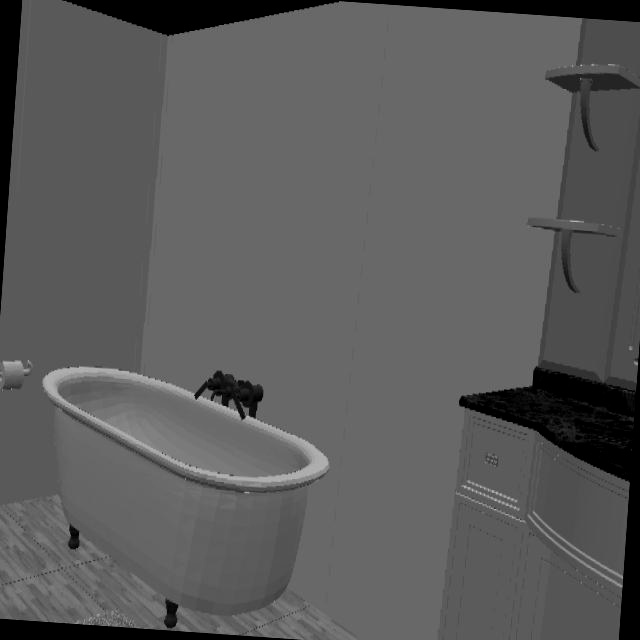bathtube: (41, 367, 331, 627)
